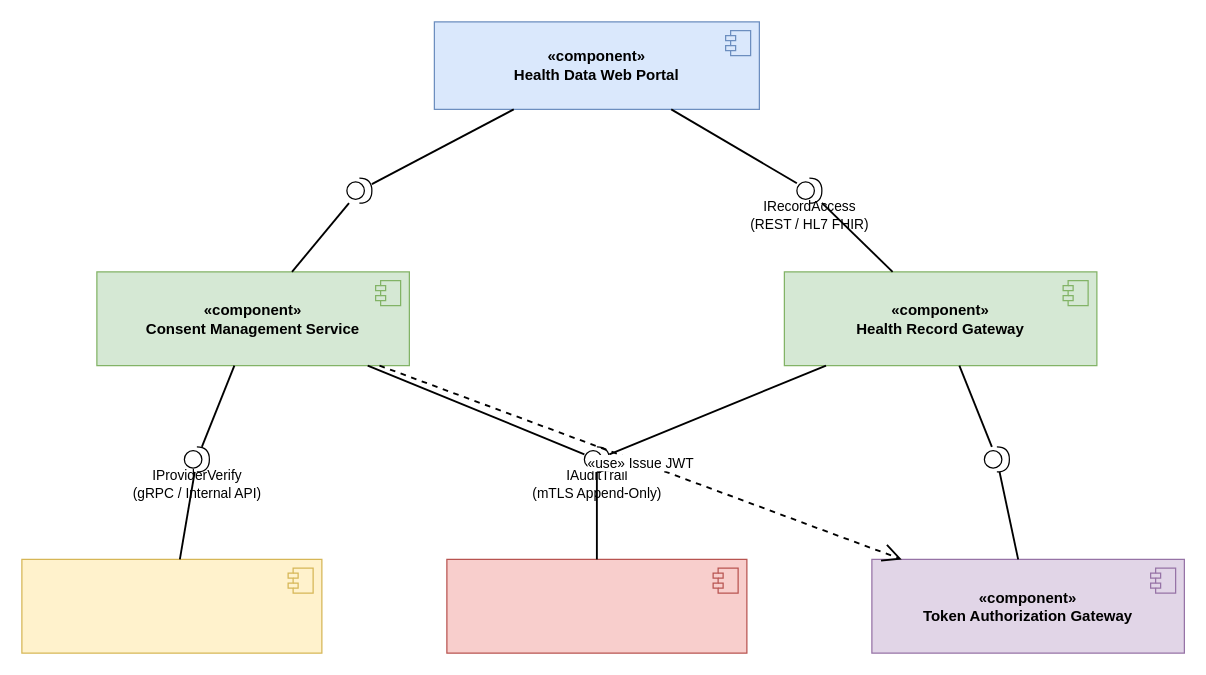
Image size: 1206x675. Some labels were removed from this diagram. Each missing label, with the centre of its shape:
"IConsentLifecycle (REST / HTTPS JSON)" goes at point (359, 190).
"ITokenValidation (gRPC / JWT <200ms)" goes at point (996, 459).
"«component» Immutable Audit Logger" goes at point (596, 605).
"«component» Provider Verification Service" goes at point (171, 605).
